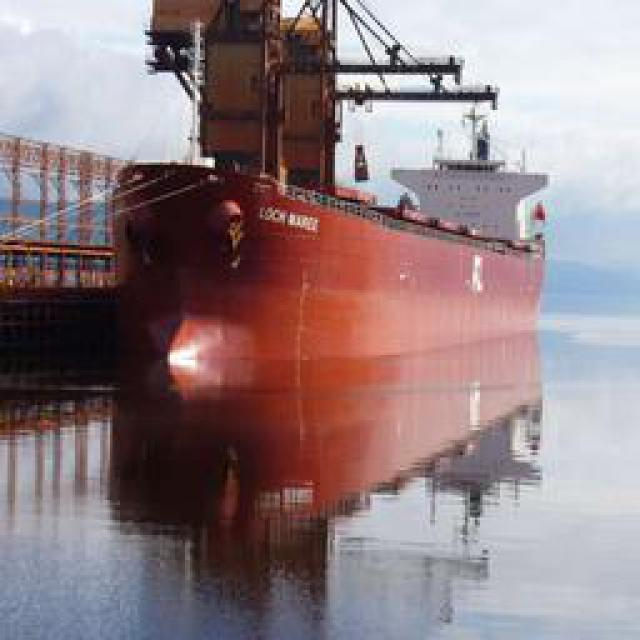Ship: (112, 1, 567, 370)
